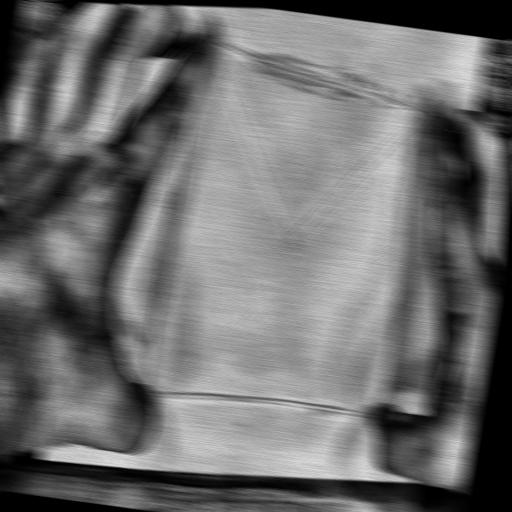bottom_left: (33, 450, 49, 466)
bottom_right: (411, 473, 425, 487)
envelop: (134, 27, 449, 442)
